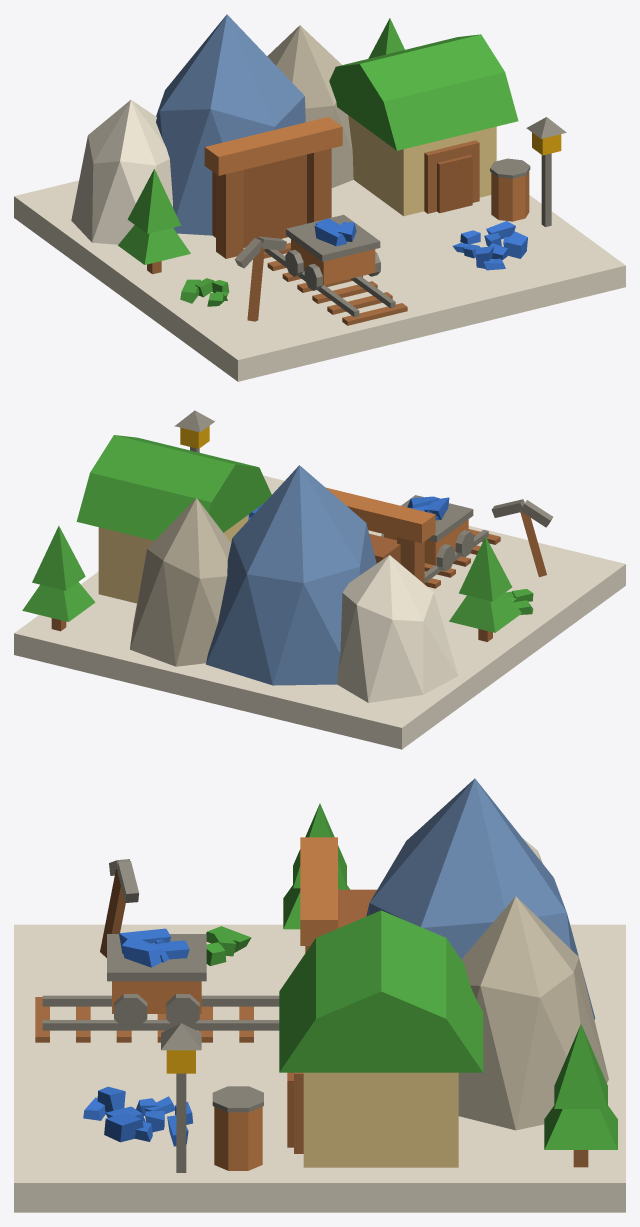
Rendered from mine_t2_v3.glb.
The picture shows the model from 3 angles, top to bottom: view 1: azimuth 30°, elevation 25°; view 2: azimuth 150°, elevation 25°; view 3: azimuth 270°, elevation 25°; orthographic projection. The views are drawn at different scales.
Visible parts, largest first — view 1: mine_t2_v3; view 2: mine_t2_v3; view 3: mine_t2_v3.
Part boxes in pixels (box(x1,y1,x2,y2)): mine_t2_v3: box(14, 14, 625, 381); mine_t2_v3: box(14, 410, 625, 749); mine_t2_v3: box(14, 778, 625, 1212).
Size of the model in its own units: 0.75 by 0.38 by 0.75.
Materials: 1 (1 with a texture image).
